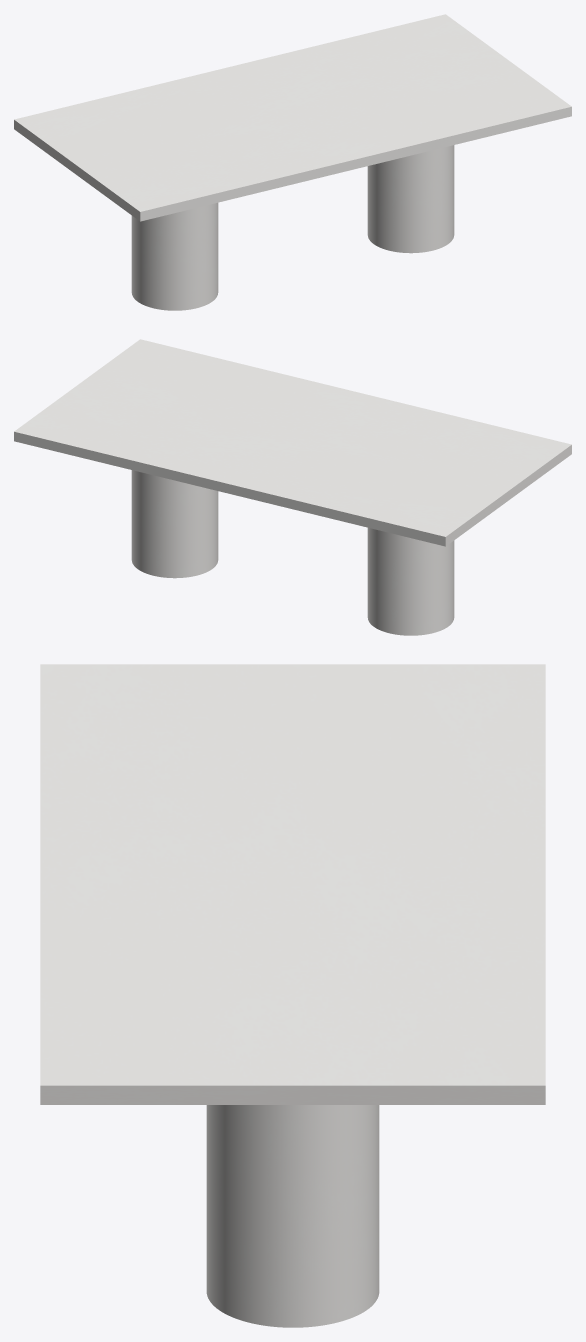
The model's file is purewhite_recta_standard_stream.glb.
3 views of the same model, one above another, from view 1: azimuth 30°, elevation 25°; view 2: azimuth 150°, elevation 25°; view 3: azimuth 270°, elevation 25° (orthographic). The views are drawn at different scales.
Visible parts, largest first — view 1: standard_recta, stream; view 2: standard_recta, stream; view 3: standard_recta, stream.
Part boxes in pixels (bbox=[...]): standard_recta: bbox=[14, 14, 571, 221]; stream: bbox=[131, 145, 454, 310]; standard_recta: bbox=[14, 339, 571, 546]; stream: bbox=[131, 470, 454, 635]; standard_recta: bbox=[40, 664, 545, 1104]; stream: bbox=[206, 1105, 379, 1327].
Bounding box in the file's own units: 7.5 × 2.5 × 3.8.
1 material, 1 textured.
